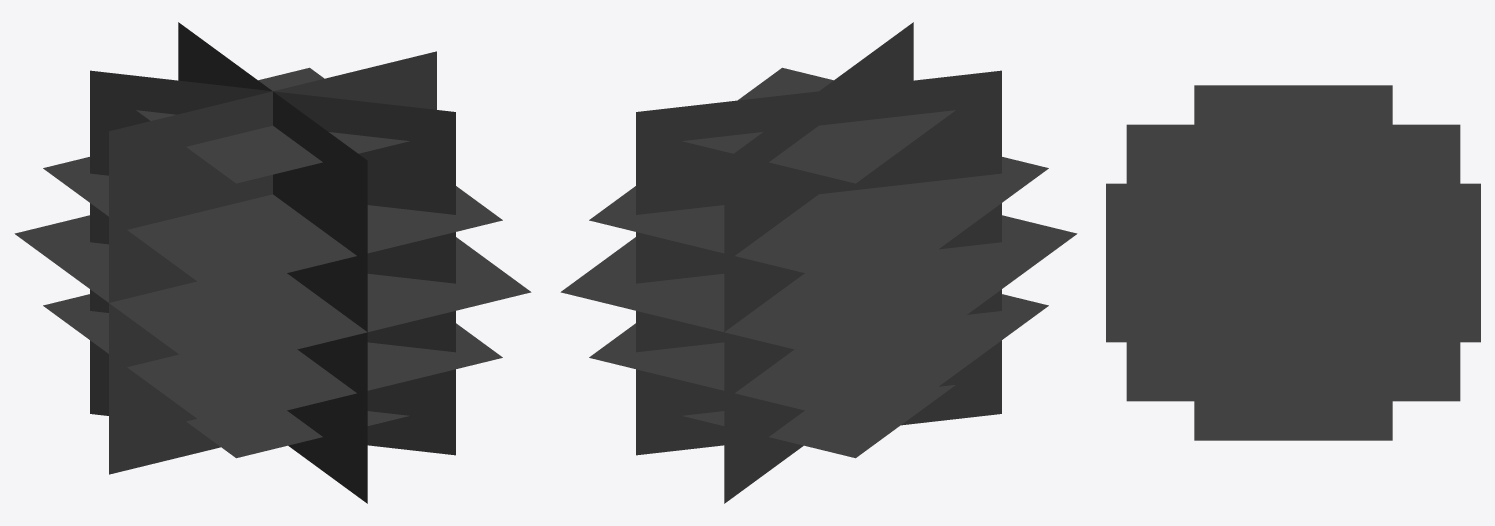
The model's file is 61ace274d1c9_1_BG_Earth_01.glb.
3 renders of one model, left to right at view 1: azimuth 30°, elevation 25°; view 2: azimuth 150°, elevation 25°; view 3: azimuth 270°, elevation 25°, orthographic.
Visible parts, largest first — view 1: 61ace274d1c9_1_BG_Earth_01.obj; view 2: 61ace274d1c9_1_BG_Earth_01.obj; view 3: 61ace274d1c9_1_BG_Earth_01.obj.
Boxes of the visible parts, <box> form: 61ace274d1c9_1_BG_Earth_01.obj: <box>14,22,531,503</box>; 61ace274d1c9_1_BG_Earth_01.obj: <box>560,22,1077,503</box>; 61ace274d1c9_1_BG_Earth_01.obj: <box>1106,85,1480,440</box>.
Size of the model in its own units: 10 by 10 by 10.
1 material, 1 textured.
